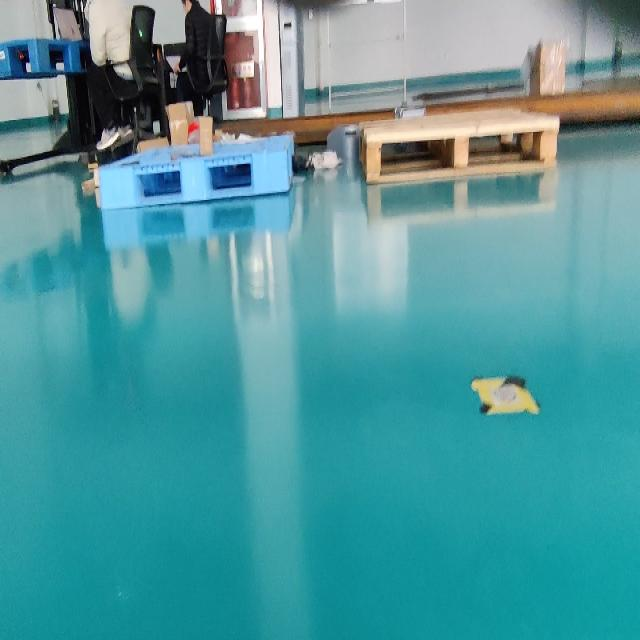euro: (360, 108, 559, 184)
